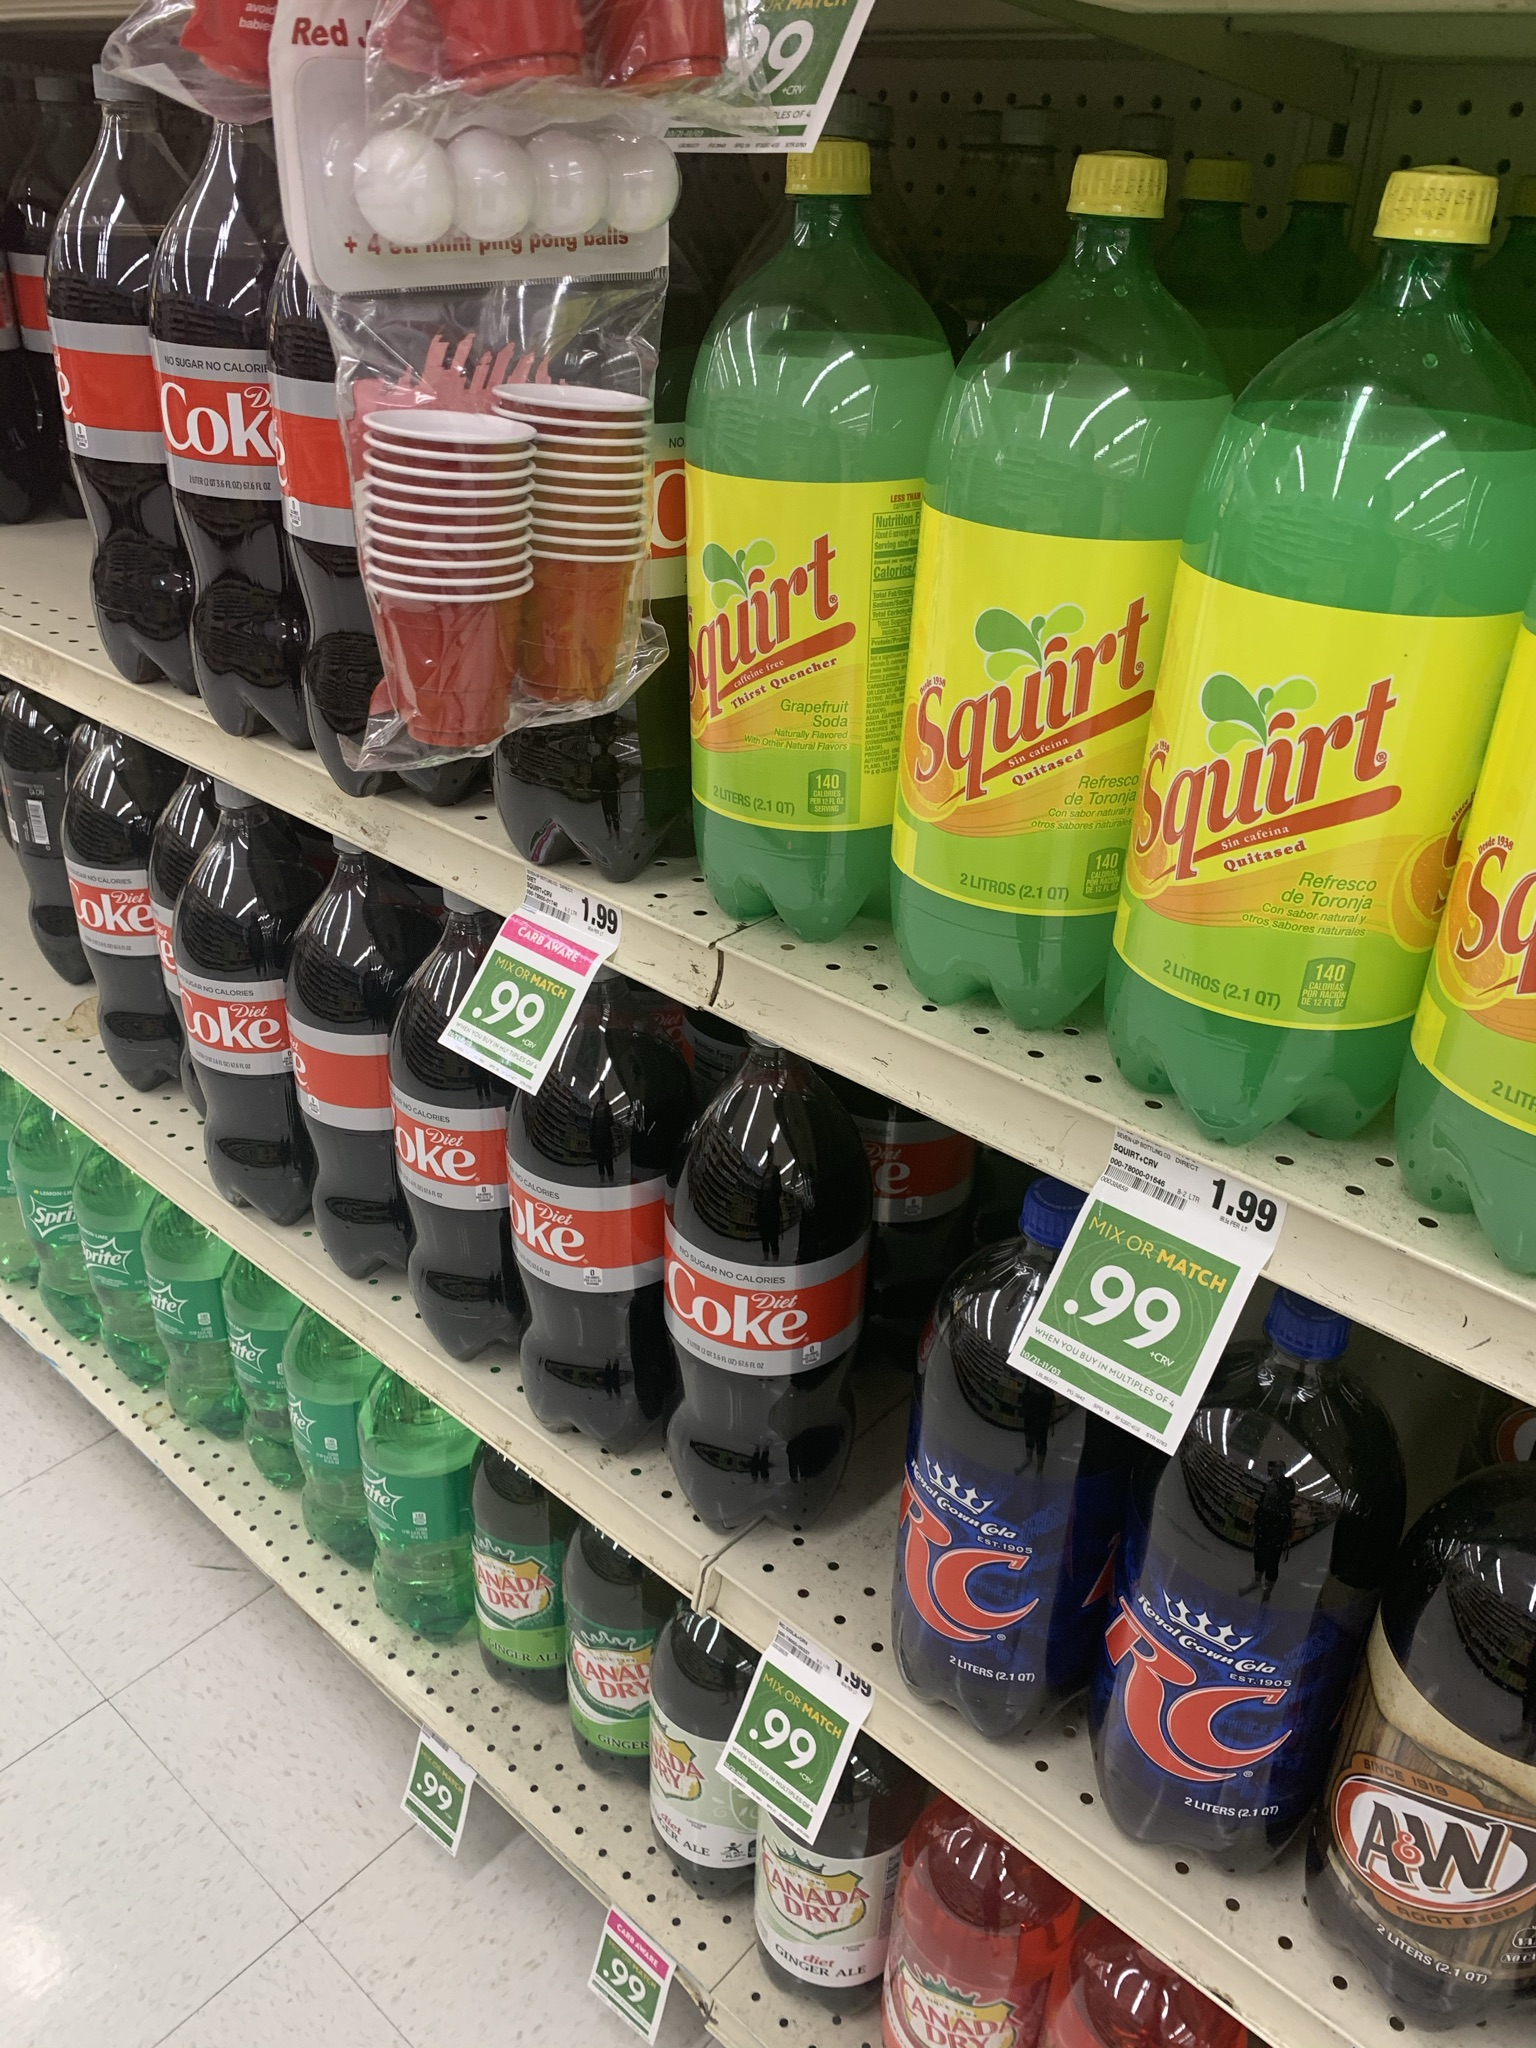AW soda: (1367, 1451, 1454, 2006)
RC soda: (984, 1205, 1307, 1824)
canada dry soda: (487, 1485, 634, 1759)
coke soda: (77, 103, 344, 742), (53, 755, 297, 1209), (699, 1047, 849, 1535), (542, 964, 665, 1466), (416, 916, 515, 1347), (328, 861, 402, 1259)
sprite soda: (273, 1314, 465, 1624), (142, 1229, 247, 1464)
squirt soda: (1221, 190, 1480, 1076), (957, 164, 1163, 984), (752, 169, 921, 919)
